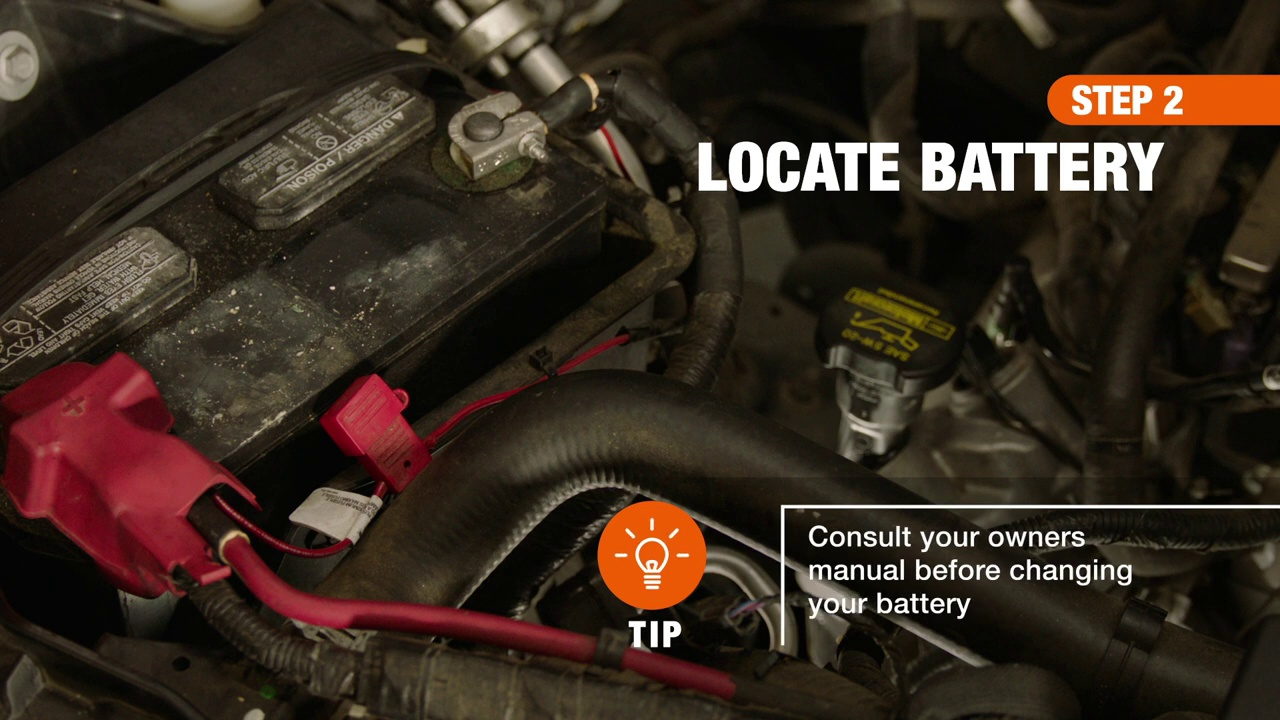battery: (1, 12, 615, 583)
neg_connected: (432, 52, 569, 185)
pos_connected: (9, 349, 271, 582)
